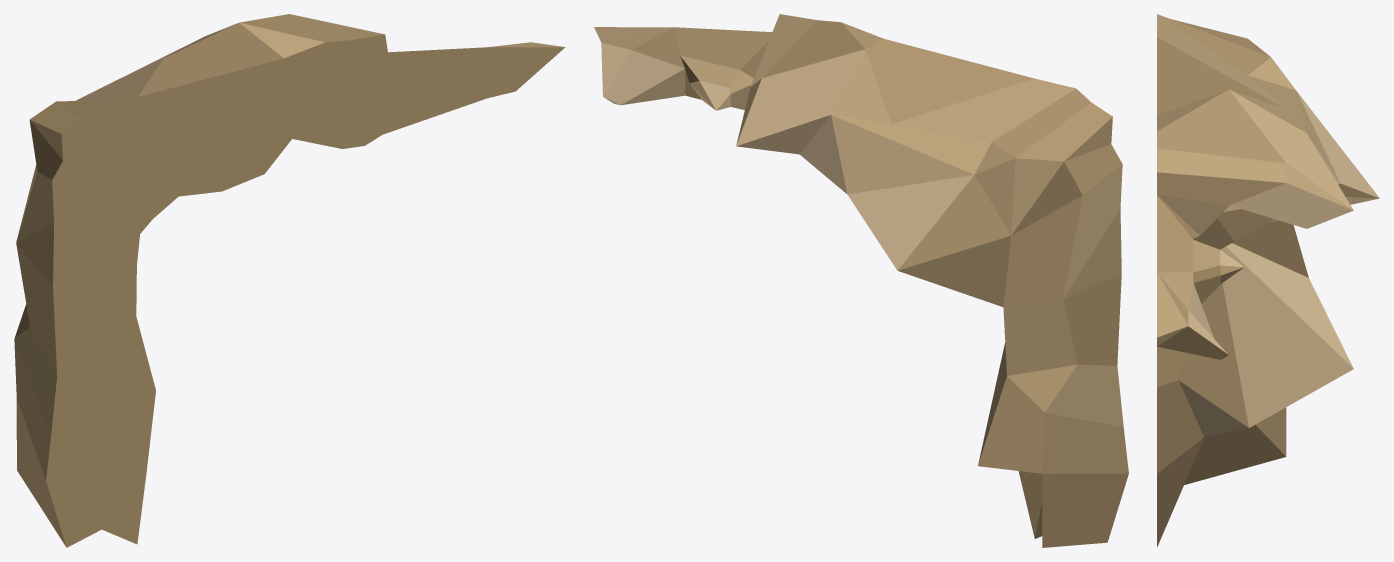
Rendered from desert_mountain_1.fbx.
3 renders of one model, left to right at view 1: azimuth 30°, elevation 25°; view 2: azimuth 150°, elevation 25°; view 3: azimuth 270°, elevation 25°, orthographic. The views are drawn at different scales.
Visible parts, largest first — view 1: desert_mountain_1; view 2: desert_mountain_1; view 3: desert_mountain_1.
Boxes of the visible parts, x1,y1,x2,y2 form: desert_mountain_1: (14, 14, 565, 547); desert_mountain_1: (594, 14, 1128, 547); desert_mountain_1: (1157, 14, 1379, 547).
Bounding box in the file's own units: 1058 × 907 × 344.
